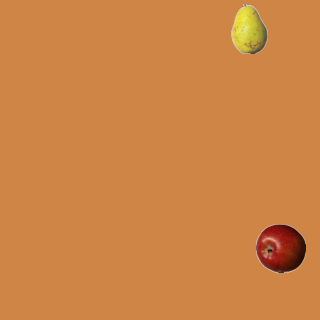Apple Braeburn: (255, 223, 305, 273)
Pear Monster: (224, 3, 274, 53)
